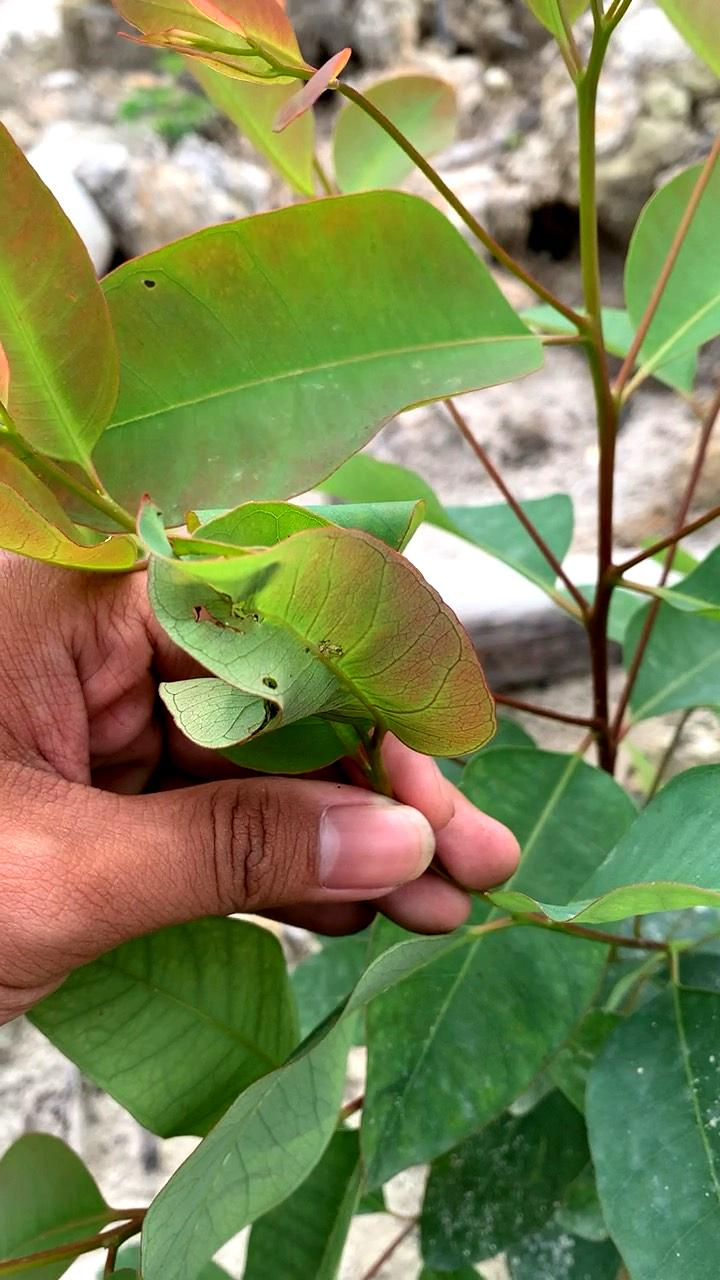Leaf Roller - Leaf: (121, 486, 513, 814)
